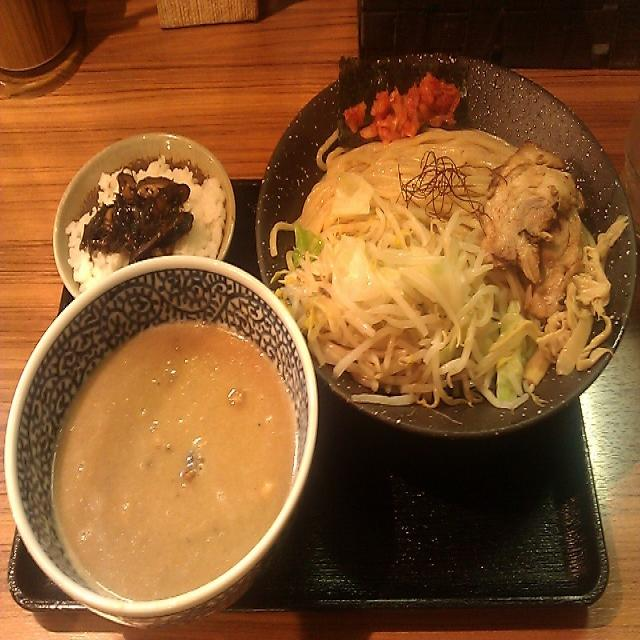面条主食: (9, 41, 609, 524)
